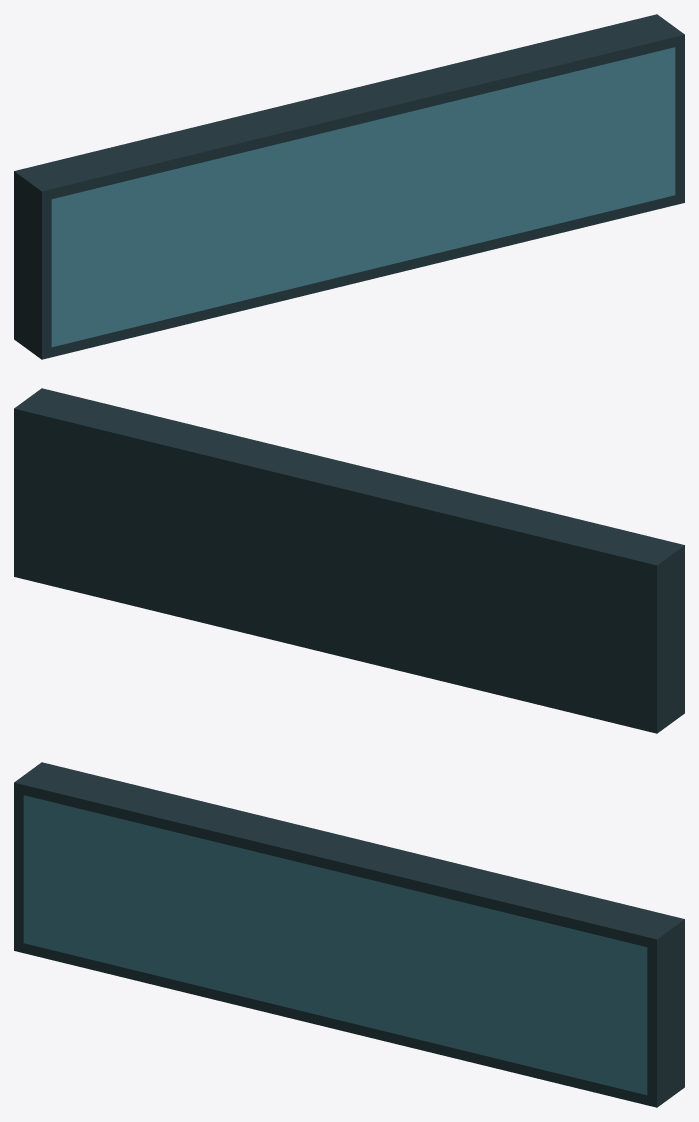
The model's file is ad_board.glb.
3 views of the same model, one above another, from view 1: azimuth 30°, elevation 25°; view 2: azimuth 150°, elevation 25°; view 3: azimuth 330°, elevation 25° (orthographic).
Visible parts, largest first — view 1: blank_panel, housing; view 2: housing; view 3: blank_panel, housing.
Boxes of the visible parts, x1,y1,x2,y2 form: blank_panel: (51, 47, 675, 347); housing: (14, 14, 684, 359); housing: (14, 388, 684, 733); blank_panel: (23, 795, 647, 1095); housing: (14, 762, 684, 1107).
Size of the model in its own units: 4 by 1 by 0.301.
Materials: 2 (2 with a texture image).
